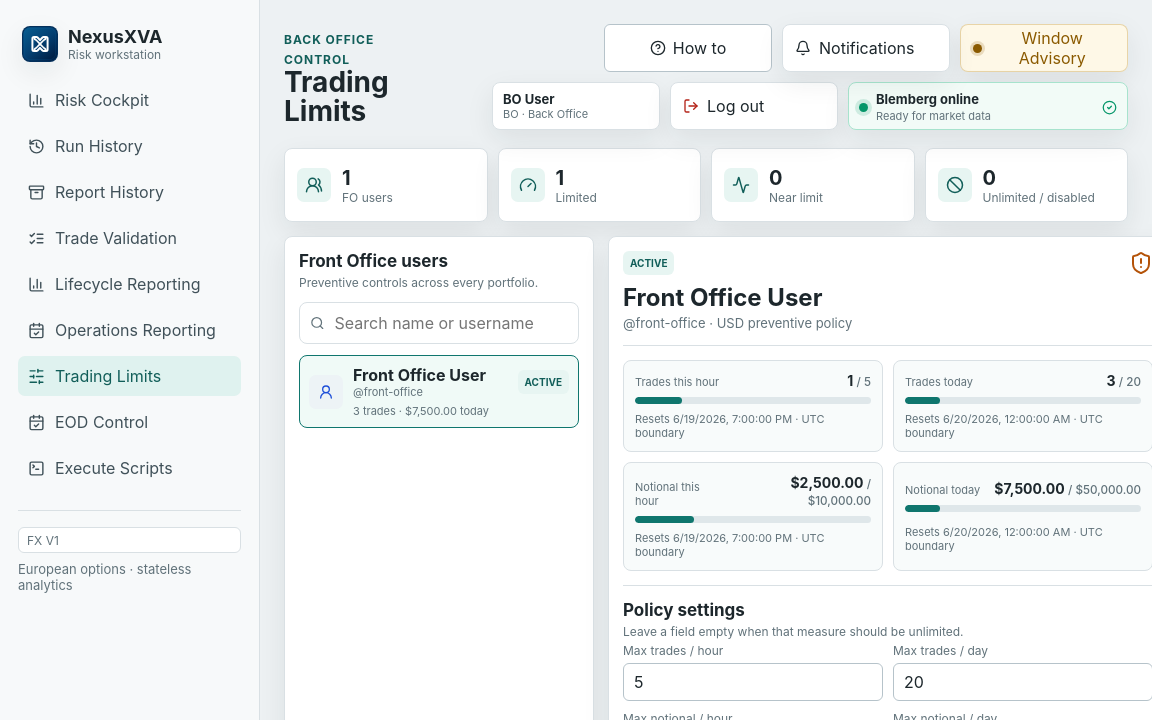
Scenario: TradingLimitsPage › renders FO usage and saves an active policy
Check: the text "Front Office User" is shown, box [353, 365, 508, 385]
Check: the text "$2,500.00" is shown, box [790, 474, 863, 491]
Step 1. Replace the text in the number field labelled "Max trades / hour" with "8" → point(753, 682), box [623, 663, 883, 701]
(page scrolled)
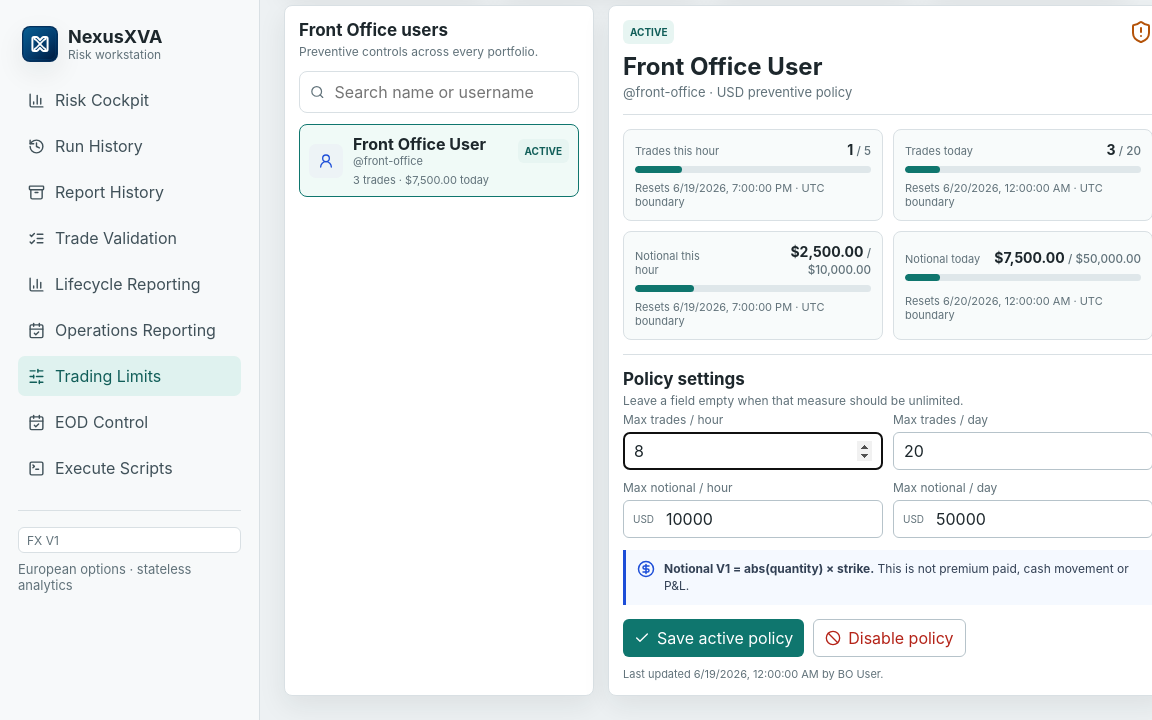
Step 2. Click the button "Save active policy" → point(714, 638), box [623, 619, 804, 657]
(page scrolled)
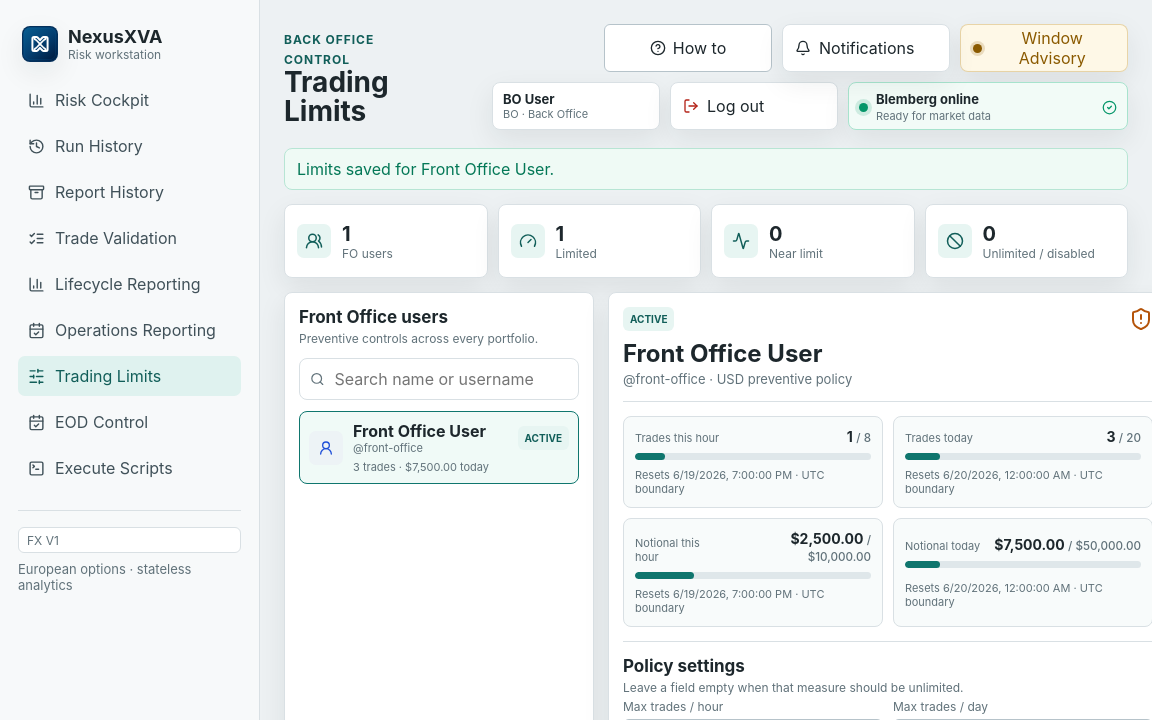
Check: the text "Limits saved for Front Office User." is shown, box [284, 148, 1128, 190]
